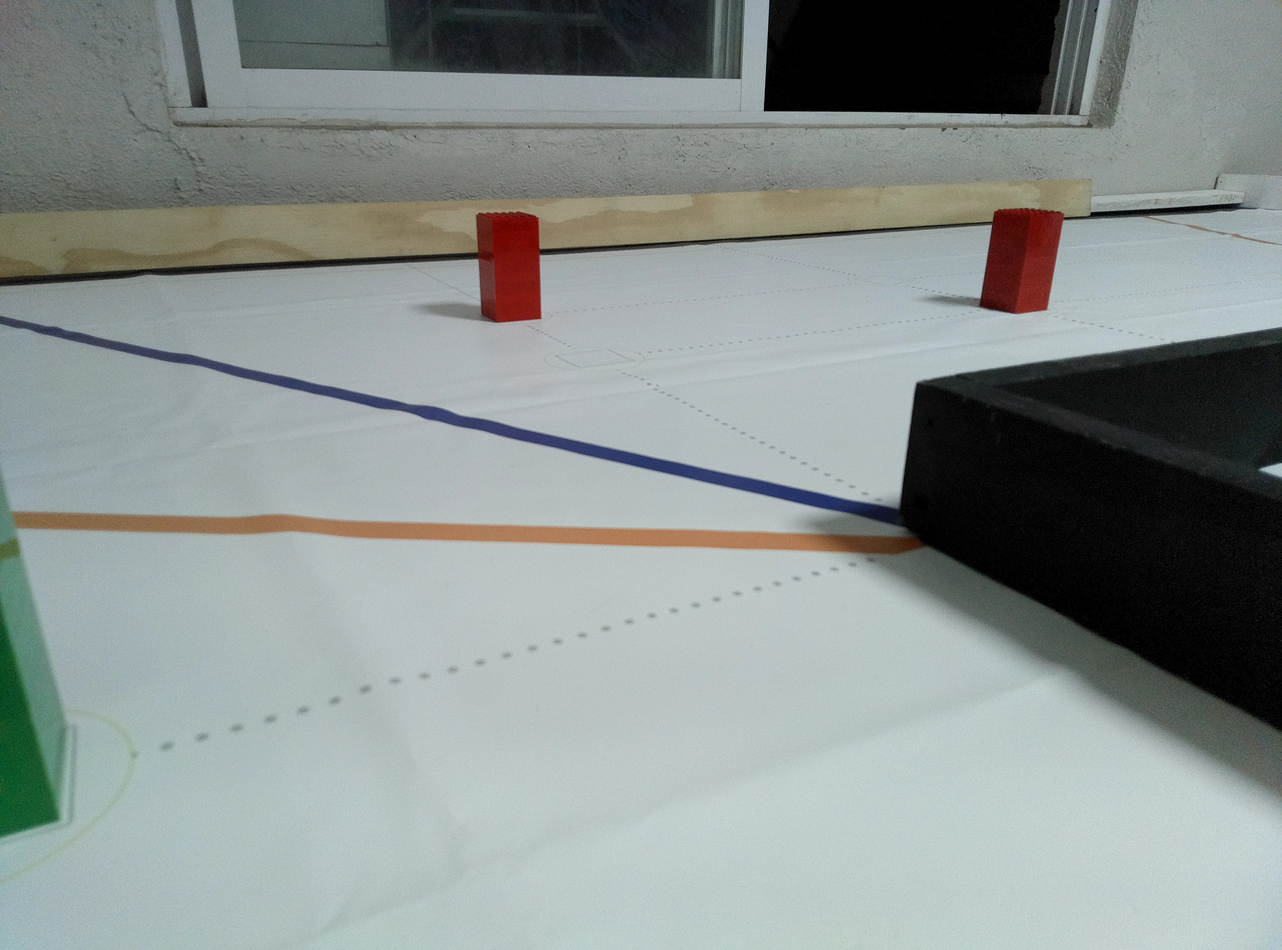greenbox: (0, 447, 68, 843)
redbox: (979, 207, 1064, 314), (475, 211, 543, 323)
